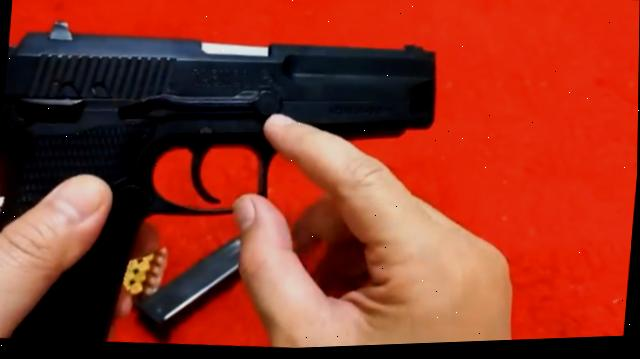pistol: (0, 7, 445, 359)
